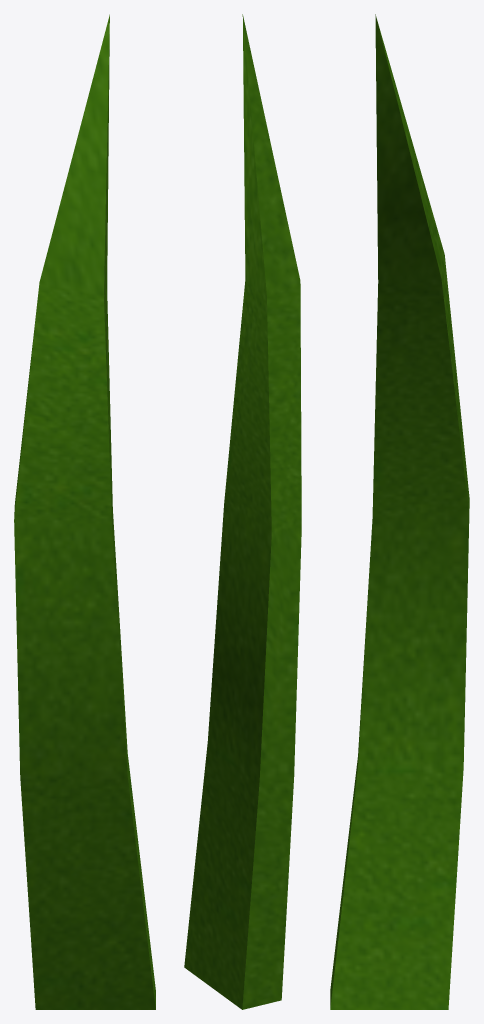
Rendered from BasicGrass.fbx.
The picture shows the model from 3 angles, left to right: view 1: azimuth 90°, elevation 25°; view 2: azimuth 210°, elevation 25°; view 3: azimuth 270°, elevation 25°; orthographic projection. The views are drawn at different scales.
Visible parts, largest first — view 1: pCube1; view 2: pCube1; view 3: pCube1.
Boxes of the visible parts, bbox=[...] form: pCube1: bbox=[14, 14, 155, 1009]; pCube1: bbox=[184, 14, 301, 1009]; pCube1: bbox=[330, 14, 469, 1009].
Bounding box in the file's own units: 0.2994 × 3.95 × 0.5106.
1 material, 1 textured.
